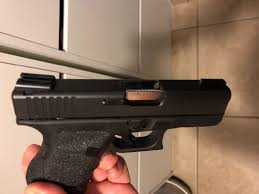gun: (8, 70, 233, 182)
